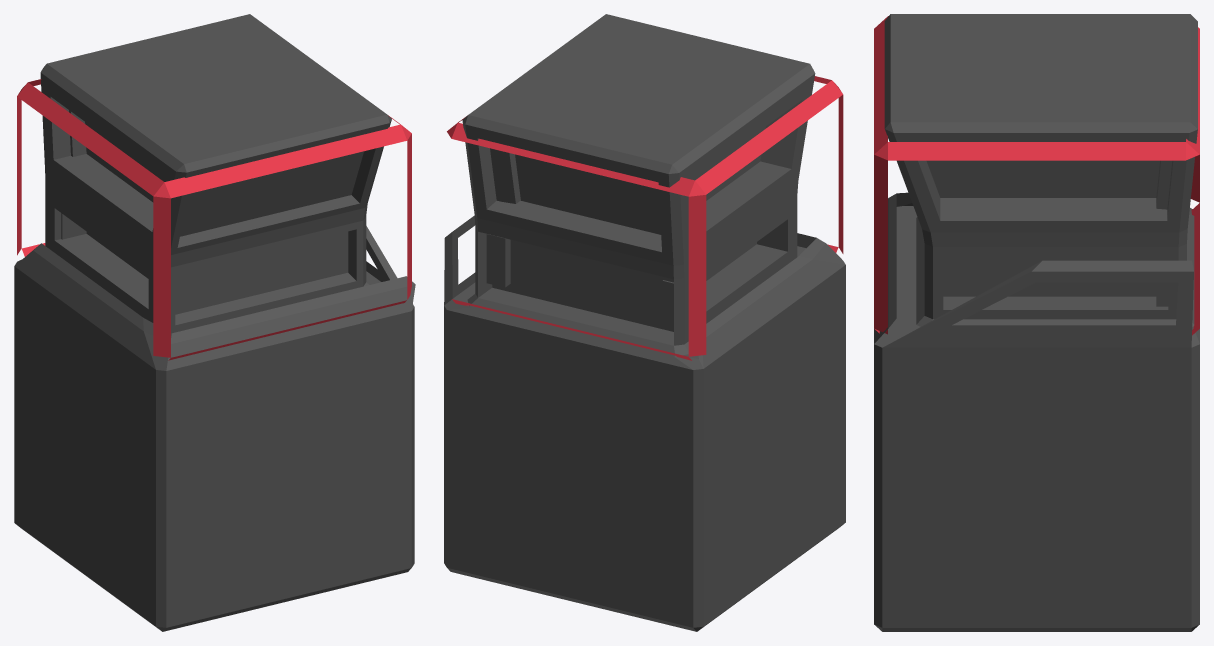
Rendered from mountain_.fbx.
The picture shows the model from 3 angles, left to right: view 1: azimuth 30°, elevation 25°; view 2: azimuth 150°, elevation 25°; view 3: azimuth 270°, elevation 25°; orthographic projection. The views are drawn at different scales.
Parts seen in each view (by area): view 1: Base, Red; view 2: Base, Red; view 3: Base, Red.
Part boxes in pixels (bbox=[...]): Base: bbox=[14, 14, 415, 631]; Red: bbox=[17, 79, 411, 360]; Base: bbox=[444, 14, 845, 631]; Red: bbox=[447, 76, 843, 360]; Base: bbox=[874, 14, 1199, 631]; Red: bbox=[874, 16, 1199, 335].
Size of the model in its own units: 203 by 339 by 200.
